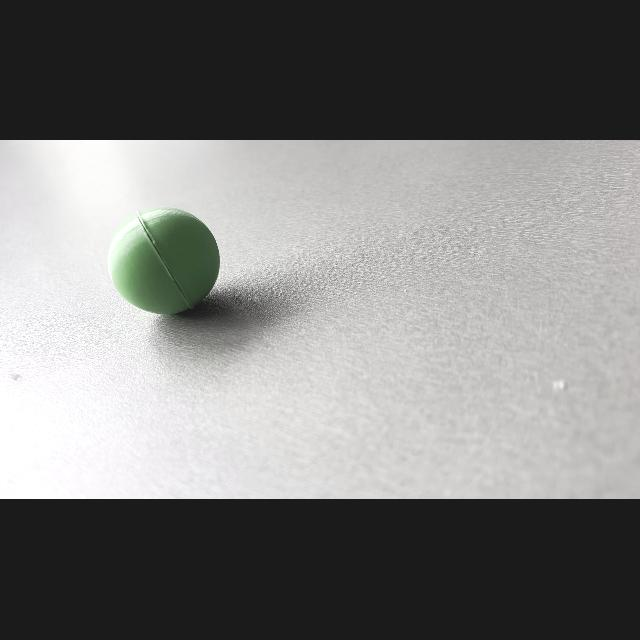objects: (104, 200, 226, 322)
